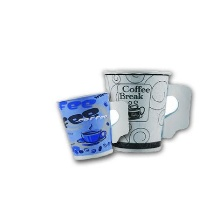paper_cup: (98, 62, 196, 157), (51, 86, 135, 167)
